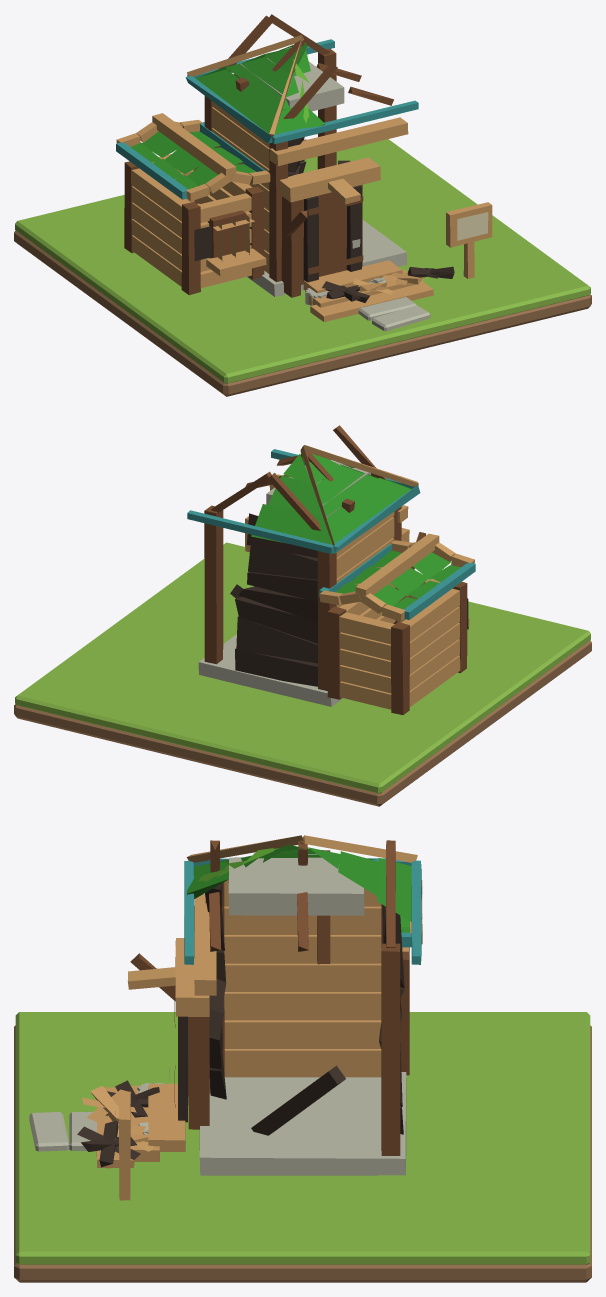
The model's file is town_hall_l03_damaged_LOD2.glb.
3 views of the same model, one above another, from view 1: azimuth 30°, elevation 25°; view 2: azimuth 150°, elevation 25°; view 3: azimuth 270°, elevation 25° (orthographic). The views are drawn at different scales.
Parts seen in each view (by area): view 1: town_hall_l03_damaged_foundation.001, town_hall_l03_damaged_grass_tile.001, town_hall_l03_damaged_earth_tile.001, town_hall_l03_damaged_path_stone.005, town_hall_l03_damaged_path_stone.004; view 2: town_hall_l03_damaged_foundation.001, town_hall_l03_damaged_grass_tile.001, town_hall_l03_damaged_earth_tile.001; view 3: town_hall_l03_damaged_grass_tile.001, town_hall_l03_damaged_foundation.001, town_hall_l03_damaged_earth_tile.001, town_hall_l03_damaged_path_stone.005, town_hall_l03_damaged_path_stone.004.
Part boxes in pixels (left/top/right/bottom): town_hall_l03_damaged_foundation.001: left=116, top=14, right=492, bottom=322; town_hall_l03_damaged_grass_tile.001: left=15, top=139, right=590, bottom=383; town_hall_l03_damaged_earth_tile.001: left=14, top=230, right=591, bottom=396; town_hall_l03_damaged_path_stone.005: left=372, top=305, right=430, bottom=331; town_hall_l03_damaged_path_stone.004: left=358, top=297, right=416, bottom=320; town_hall_l03_damaged_foundation.001: left=187, top=425, right=475, bottom=714; town_hall_l03_damaged_grass_tile.001: left=15, top=542, right=590, bottom=793; town_hall_l03_damaged_earth_tile.001: left=14, top=640, right=591, bottom=806; town_hall_l03_damaged_grass_tile.001: left=15, top=1012, right=590, bottom=1264; town_hall_l03_damaged_foundation.001: left=77, top=835, right=422, bottom=1200; town_hall_l03_damaged_earth_tile.001: left=14, top=1025, right=591, bottom=1282; town_hall_l03_damaged_path_stone.005: left=29, top=1112, right=69, bottom=1151; town_hall_l03_damaged_path_stone.004: left=69, top=1112, right=96, bottom=1150.
Size of the model in its own units: 3.6 by 2.25 by 3.6.
